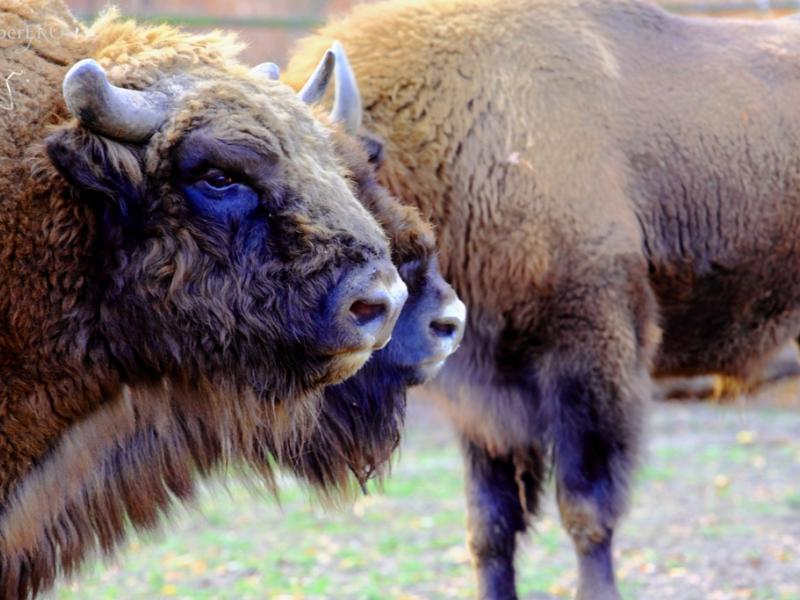zubr: (285, 2, 790, 600), (1, 21, 406, 573)
